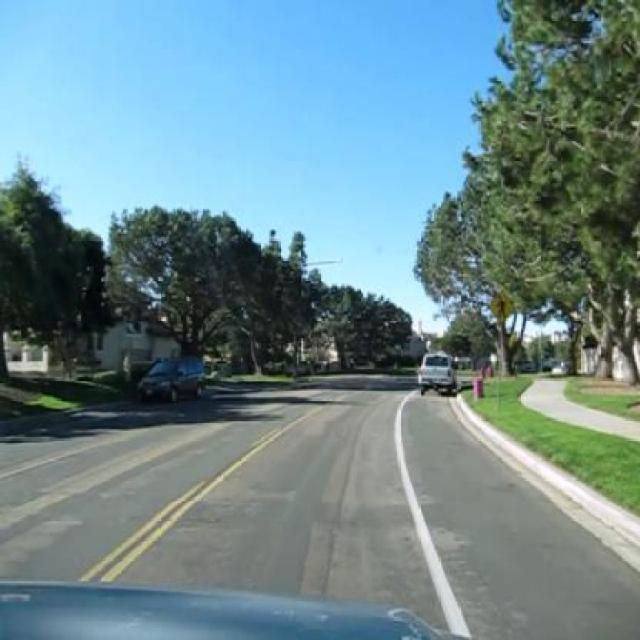pedestrianCrossing: (488, 286, 515, 326)
